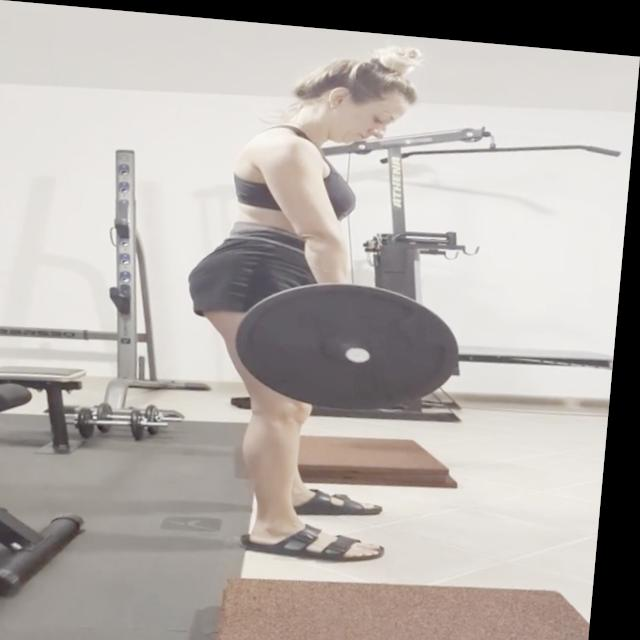barbell: (237, 269, 474, 412)
